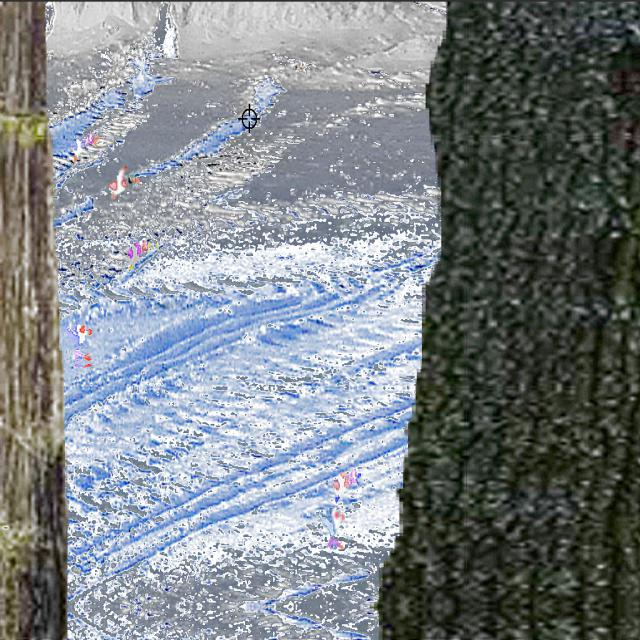duck: (121, 224, 161, 275), (106, 162, 144, 204), (328, 465, 365, 502), (68, 129, 104, 166)
falling_duck: (315, 506, 348, 556), (72, 318, 96, 368)
